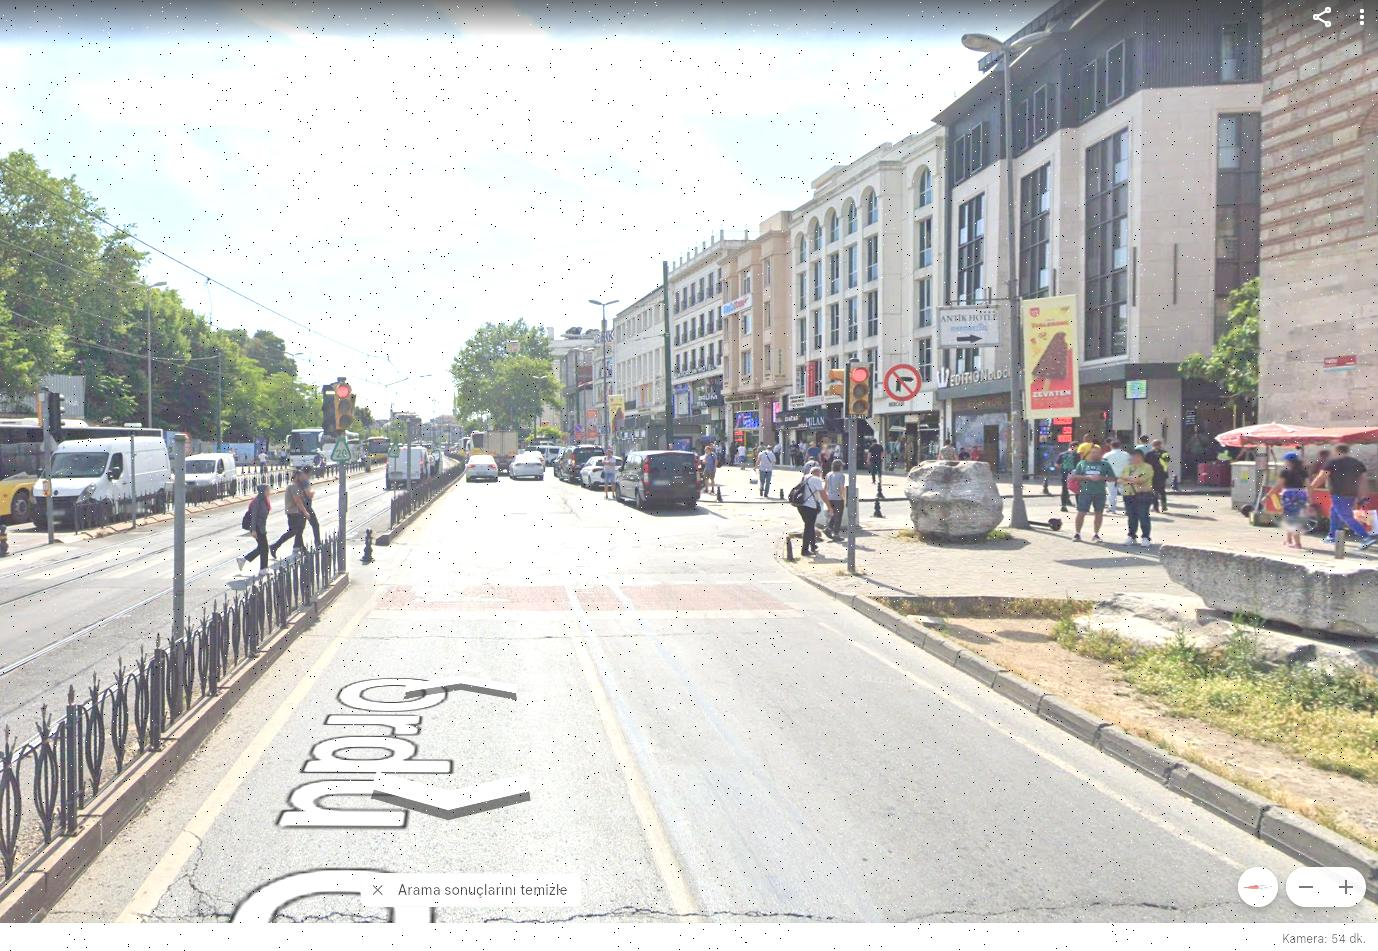redlight: (845, 362, 871, 416), (332, 376, 356, 432)
rightturnsareforbidden: (883, 364, 921, 401)
